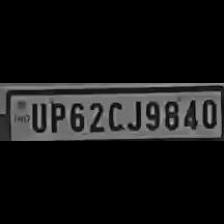0: (198, 97, 218, 129)
2: (86, 99, 104, 133)
4: (180, 96, 198, 130)
6: (65, 99, 84, 133)
8: (161, 96, 179, 130)
9: (142, 97, 160, 131)
C: (105, 98, 124, 132)
J: (124, 96, 142, 132)
P: (47, 99, 65, 133)
U: (28, 100, 46, 132)
